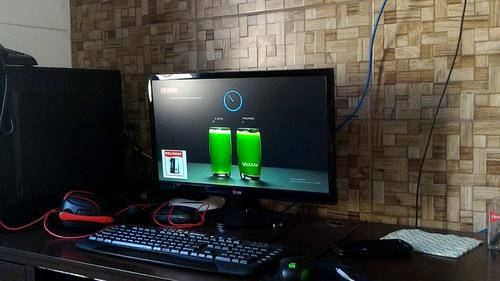Polishop #1: (160, 148, 188, 179)
